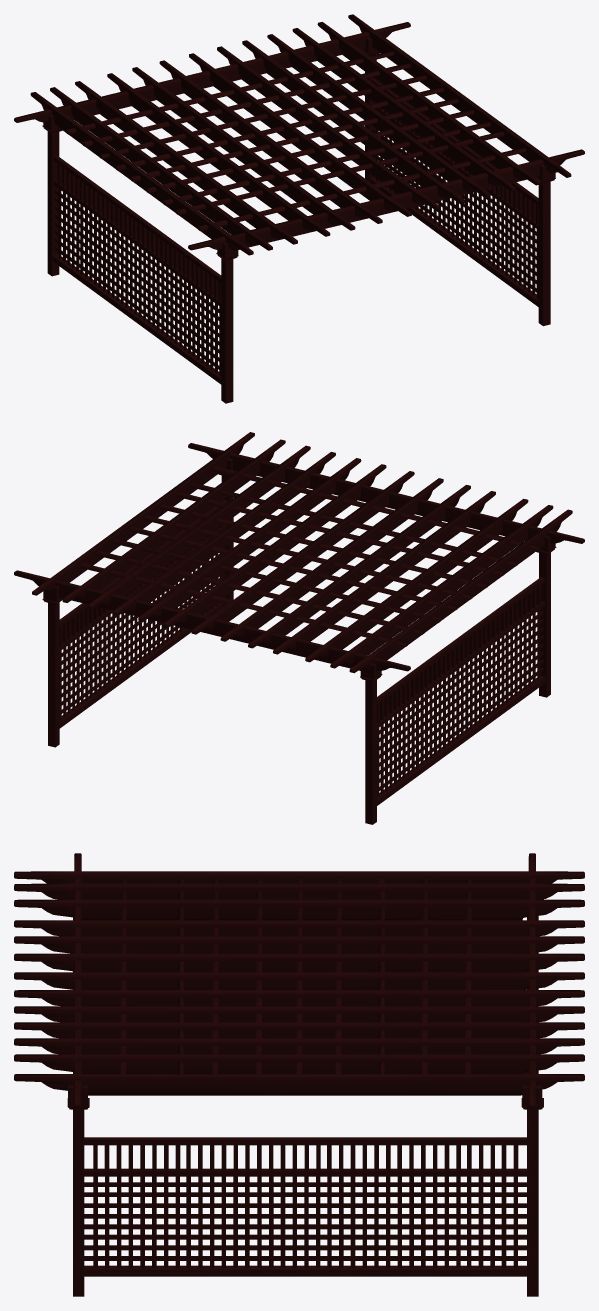
The model's file is Gate.fbx.
3 renders of one model, top to bottom at view 1: azimuth 30°, elevation 25°; view 2: azimuth 150°, elevation 25°; view 3: azimuth 270°, elevation 25°, orthographic. The views are drawn at different scales.
Parts seen in each view (by area): view 1: bar1, bar, bar25, bar33, bar28, bar34, bar26, bar27, bar29, bar31, bar36, bar32 (+31 smaller); view 2: bar, bar1, bar25, bar34, bar31, bar28, bar29, bar26, bar27, bar32, bar33, bar36 (+30 smaller); view 3: bar37, bar27, bar30, bar36, bar29, bar31, bar26, bar35, bar34, bar28, bar33, bar32 (+25 smaller).
Part boxes in pixels (x1,y1,x2,y2): bar1: [188, 149, 584, 250]; bar: [14, 22, 410, 122]; bar25: [30, 92, 253, 255]; bar33: [242, 40, 465, 203]; bar28: [107, 73, 330, 236]; bar34: [267, 34, 490, 197]; bar26: [50, 87, 272, 250]; bar27: [75, 81, 297, 244]; bar29: [132, 67, 355, 230]; bar31: [189, 53, 411, 216]; bar36: [317, 22, 540, 185]; bar32: [217, 46, 439, 209]; bar: [14, 570, 410, 671]; bar1: [188, 443, 584, 543]; bar25: [349, 509, 572, 673]; bar34: [113, 452, 335, 615]; bar31: [191, 471, 414, 634]; bar28: [273, 491, 495, 654]; bar29: [248, 485, 470, 648]; bar26: [330, 505, 553, 668]; bar27: [305, 498, 528, 662]; bar32: [163, 464, 386, 627]; bar33: [138, 458, 361, 621]; bar36: [62, 439, 285, 602]; bar37: [14, 1074, 584, 1095]; bar27: [14, 899, 584, 920]; bar30: [14, 953, 584, 972]; bar36: [14, 1054, 584, 1073]; bar29: [14, 936, 584, 953]; bar31: [14, 972, 584, 989]; bar26: [14, 883, 584, 899]; bar35: [14, 1038, 584, 1054]; bar34: [14, 1022, 584, 1038]; bar28: [14, 920, 584, 936]; bar33: [14, 1006, 584, 1022]; bar32: [14, 990, 584, 1006].
Bounding box in the file's own units: 59.24 × 24.05 × 56.85.
